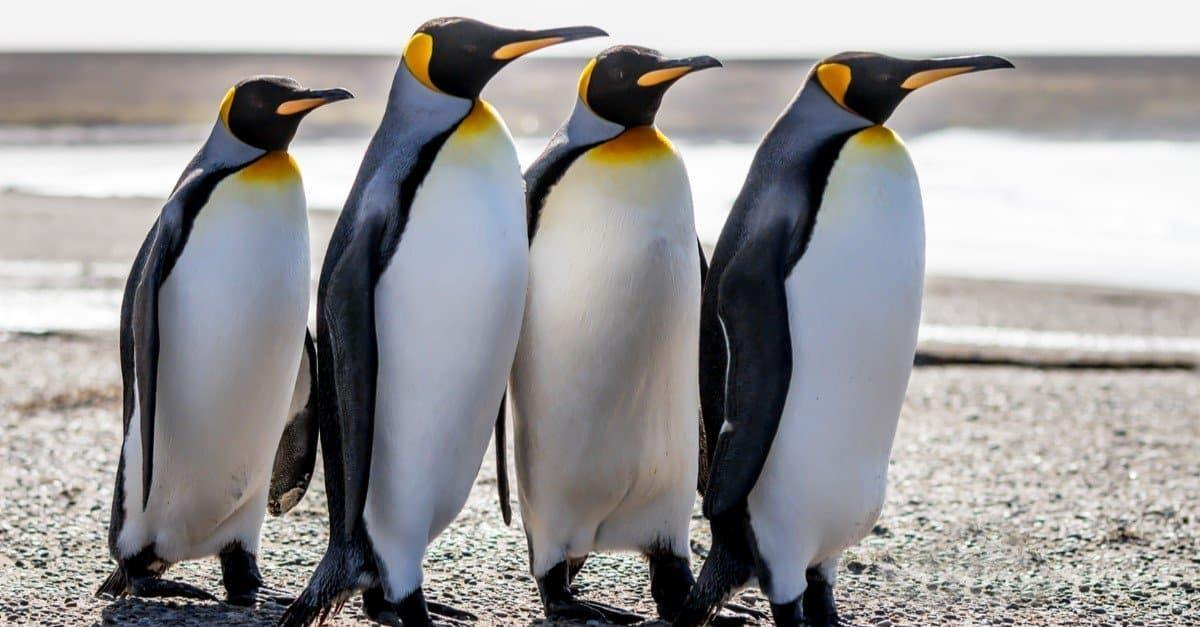Penguin: (281, 16, 604, 625), (677, 52, 1009, 626), (101, 75, 349, 603), (511, 45, 719, 622)
